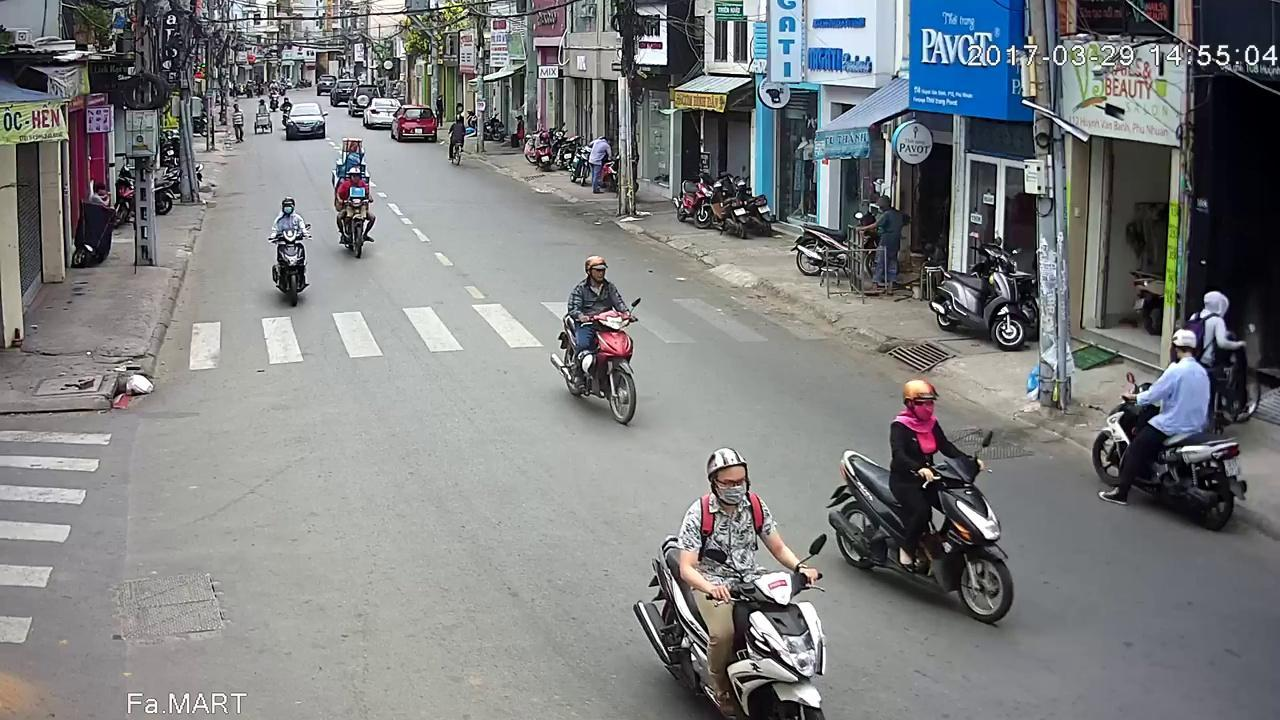xe dap: (444, 47, 465, 100)
xe hoi: (390, 39, 437, 77)
xe may: (642, 415, 835, 720), (829, 380, 1018, 628), (1094, 321, 1252, 525), (553, 254, 645, 427), (266, 195, 315, 307), (333, 163, 376, 257)
